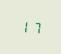one: (19, 19, 29, 33)
seven: (30, 20, 40, 34)
